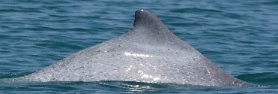fin: (11, 7, 260, 90)
